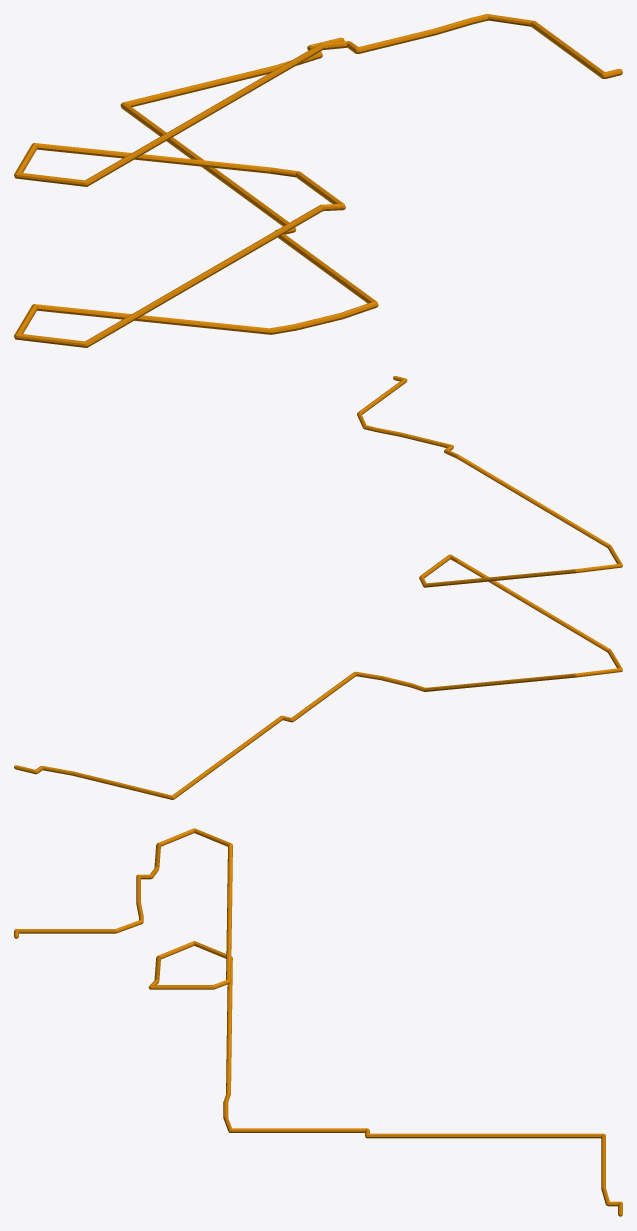
3 renders of one model, top to bottom at view 1: azimuth 30°, elevation 25°; view 2: azimuth 150°, elevation 25°; view 3: azimuth 270°, elevation 25°, orthographic. The views are drawn at different scales.
Bounding box in the file's own units: 2062 × 1020 × 2448.
